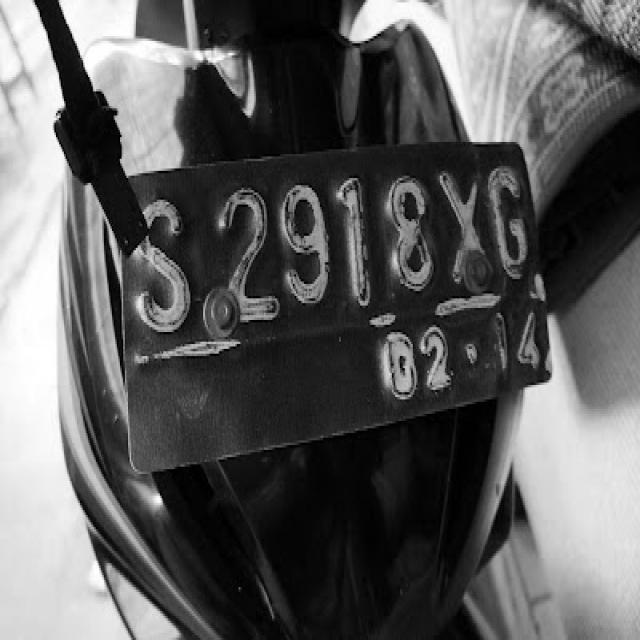1: (332, 167, 377, 311)
2: (216, 181, 281, 327)
8: (382, 161, 435, 299)
9: (282, 179, 332, 317)
G: (484, 160, 534, 282)
S: (126, 190, 197, 340)
X: (434, 166, 495, 292)
